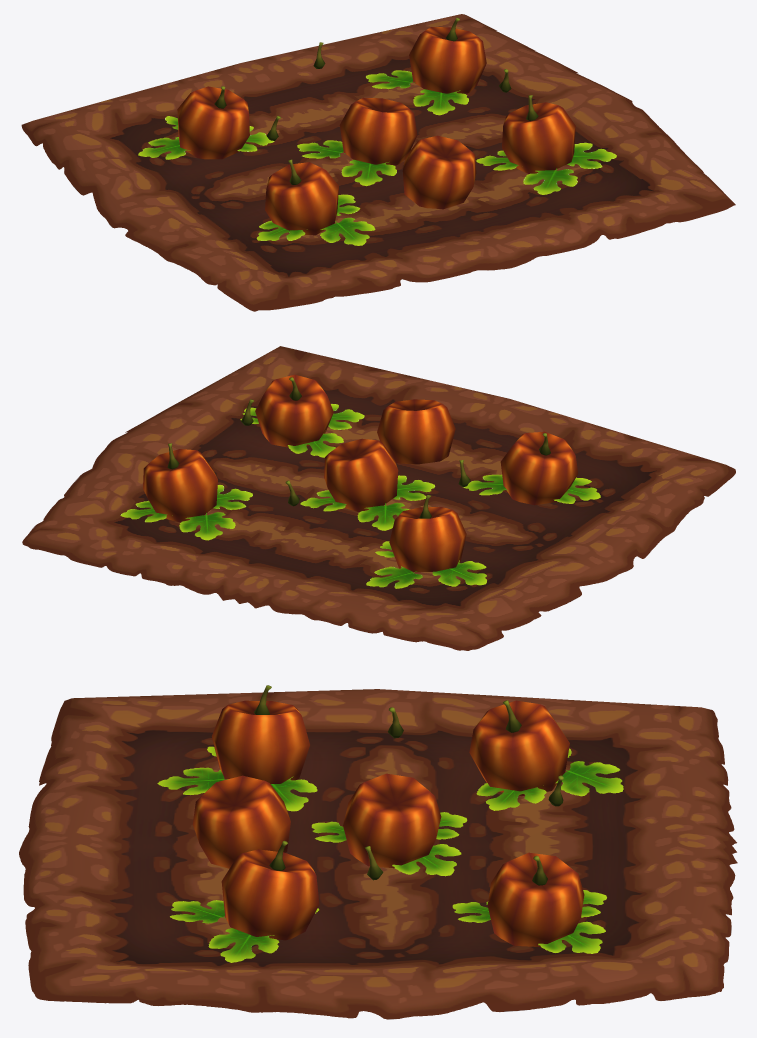
Rendered from Field_03b.FBX.
3 views of the same model, one above another, from view 1: azimuth 30°, elevation 25°; view 2: azimuth 150°, elevation 25°; view 3: azimuth 270°, elevation 25° (orthographic). The views are drawn at different scales.
Parts seen in each view (by area): view 1: Field_03b; view 2: Field_03b; view 3: Field_03b.
Boxes of the visible parts, box(x1,y1,x2,y2) form: Field_03b: box(21, 14, 735, 311); Field_03b: box(22, 346, 735, 650); Field_03b: box(19, 685, 737, 1019).
Bounding box in the file's own units: 2.96 × 0.3776 × 2.74.
